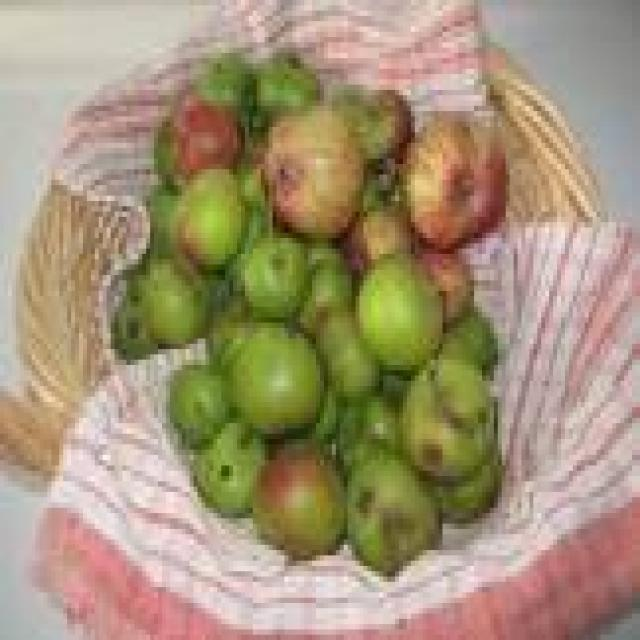apple: (403, 117, 509, 248), (265, 106, 363, 238), (348, 445, 438, 576), (400, 365, 493, 481), (230, 323, 323, 439), (253, 445, 343, 560), (356, 254, 442, 370), (194, 424, 268, 518), (178, 170, 248, 269), (241, 233, 308, 322), (143, 260, 209, 349), (317, 307, 379, 401), (170, 96, 240, 179), (166, 365, 229, 449), (435, 450, 501, 523), (301, 254, 355, 333), (419, 249, 474, 322), (439, 307, 497, 375), (194, 53, 256, 116), (257, 53, 319, 116), (348, 212, 410, 269)
